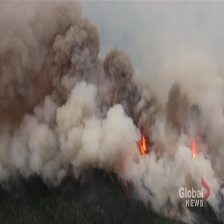fire: (136, 132, 151, 157), (191, 139, 199, 157)
smoke: (2, 5, 223, 218)
